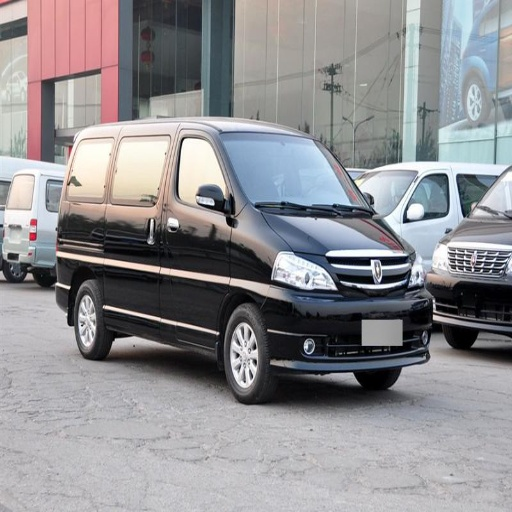front_bumper: (263, 254, 439, 375)
front_right_door: (158, 129, 233, 345)
front_right_light: (273, 251, 335, 293)
hood: (263, 210, 412, 260)
trunk: (59, 164, 105, 291)
